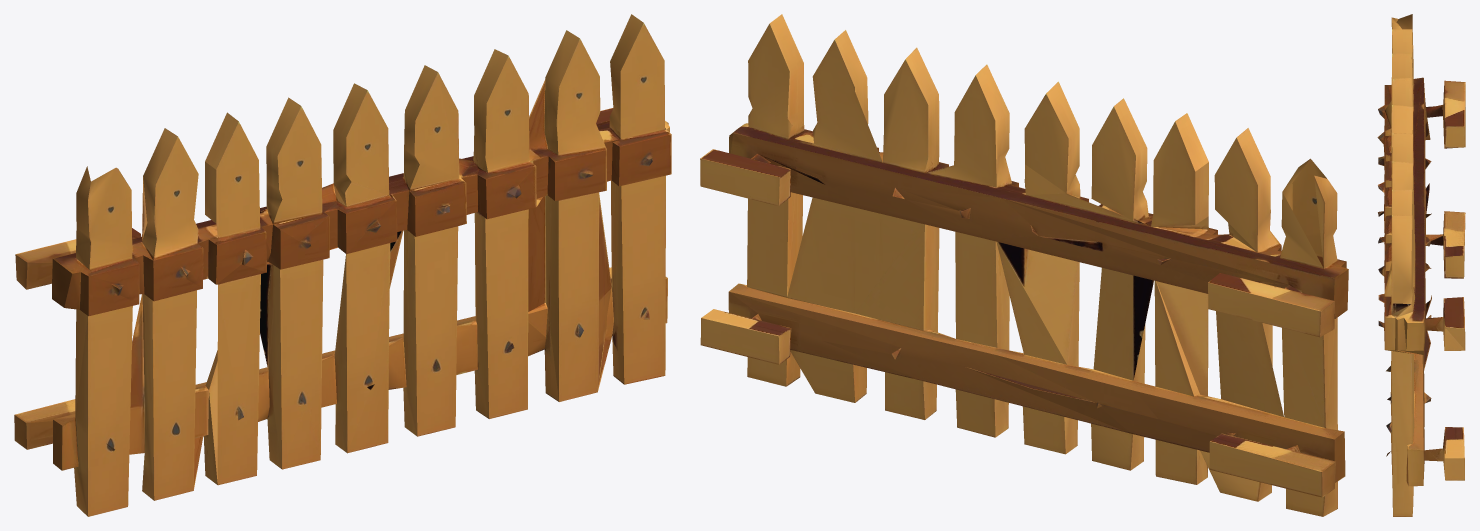
File: fence-picket.glb
The picture shows the model from 3 angles, left to right: view 1: azimuth 30°, elevation 25°; view 2: azimuth 150°, elevation 25°; view 3: azimuth 270°, elevation 25°; orthographic projection. The views are drawn at different scales.
Parts seen in each view (by area): view 1: Mesh_0.001; view 2: Mesh_0.001; view 3: Mesh_0.001.
Part boxes in pixels (<box>): Mesh_0.001: <box>14,14,671,516</box>; Mesh_0.001: <box>700,14,1348,516</box>; Mesh_0.001: <box>1377,14,1465,516</box>.
Size of the model in its own units: 1.9 by 1.04 by 0.2841.
Materials: 1 (1 with a texture image).
